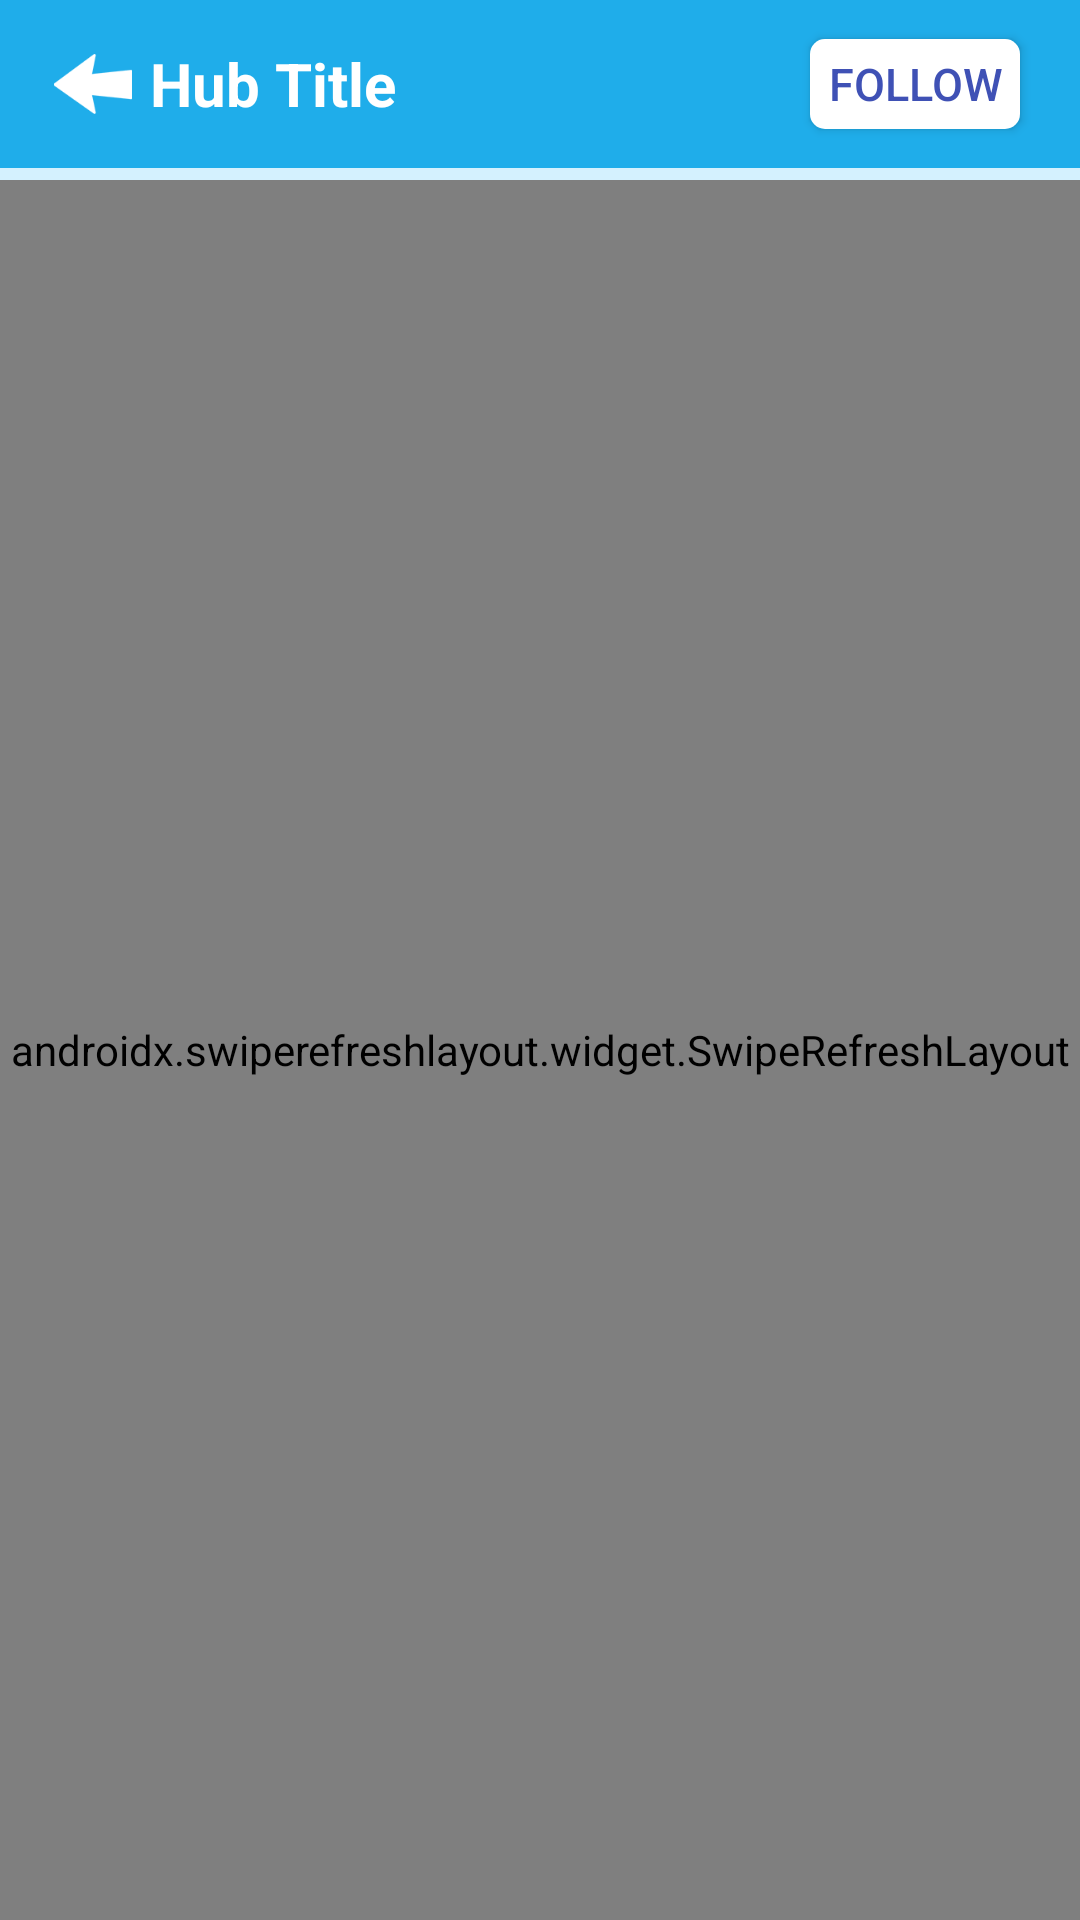

Screen size 1080px×1920px. Icon name, then its box in pixels as BBox(x1, y1, x2, y2):
arrow: BBox(54, 54, 132, 114)
